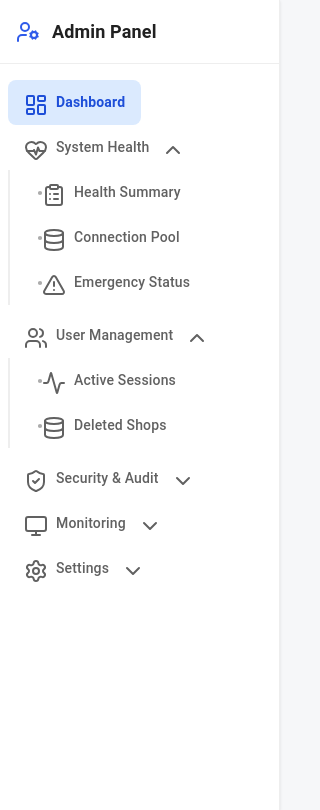
AdminSidebar integration › expands and collapses grouped sections
Expected: the menu named "System Health submenu" has style "display: block", [8, 170, 279, 305]
Click the button with aria-label "System Health section" at {"x": 103, "y": 148}, box [8, 125, 197, 170]
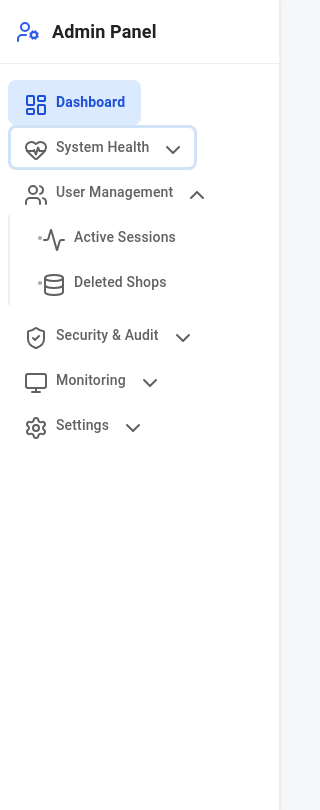
Expected: the button with aria-label "System Health section" is collapsed, [8, 125, 197, 170]
